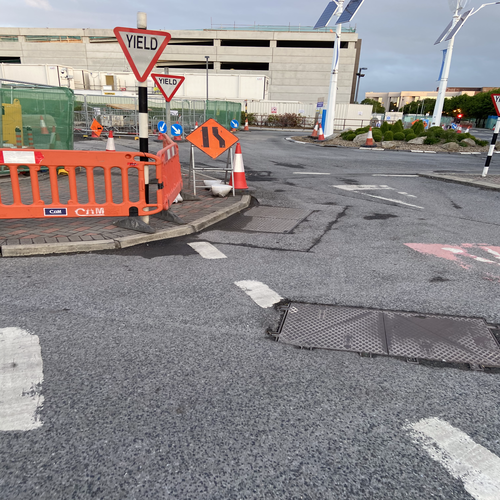Narrow Road: (187, 118, 238, 155)
Yield: (113, 25, 166, 79), (153, 73, 186, 102)
